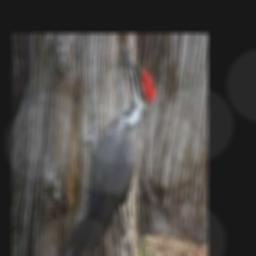Woodpecker: (61, 45, 157, 256)
